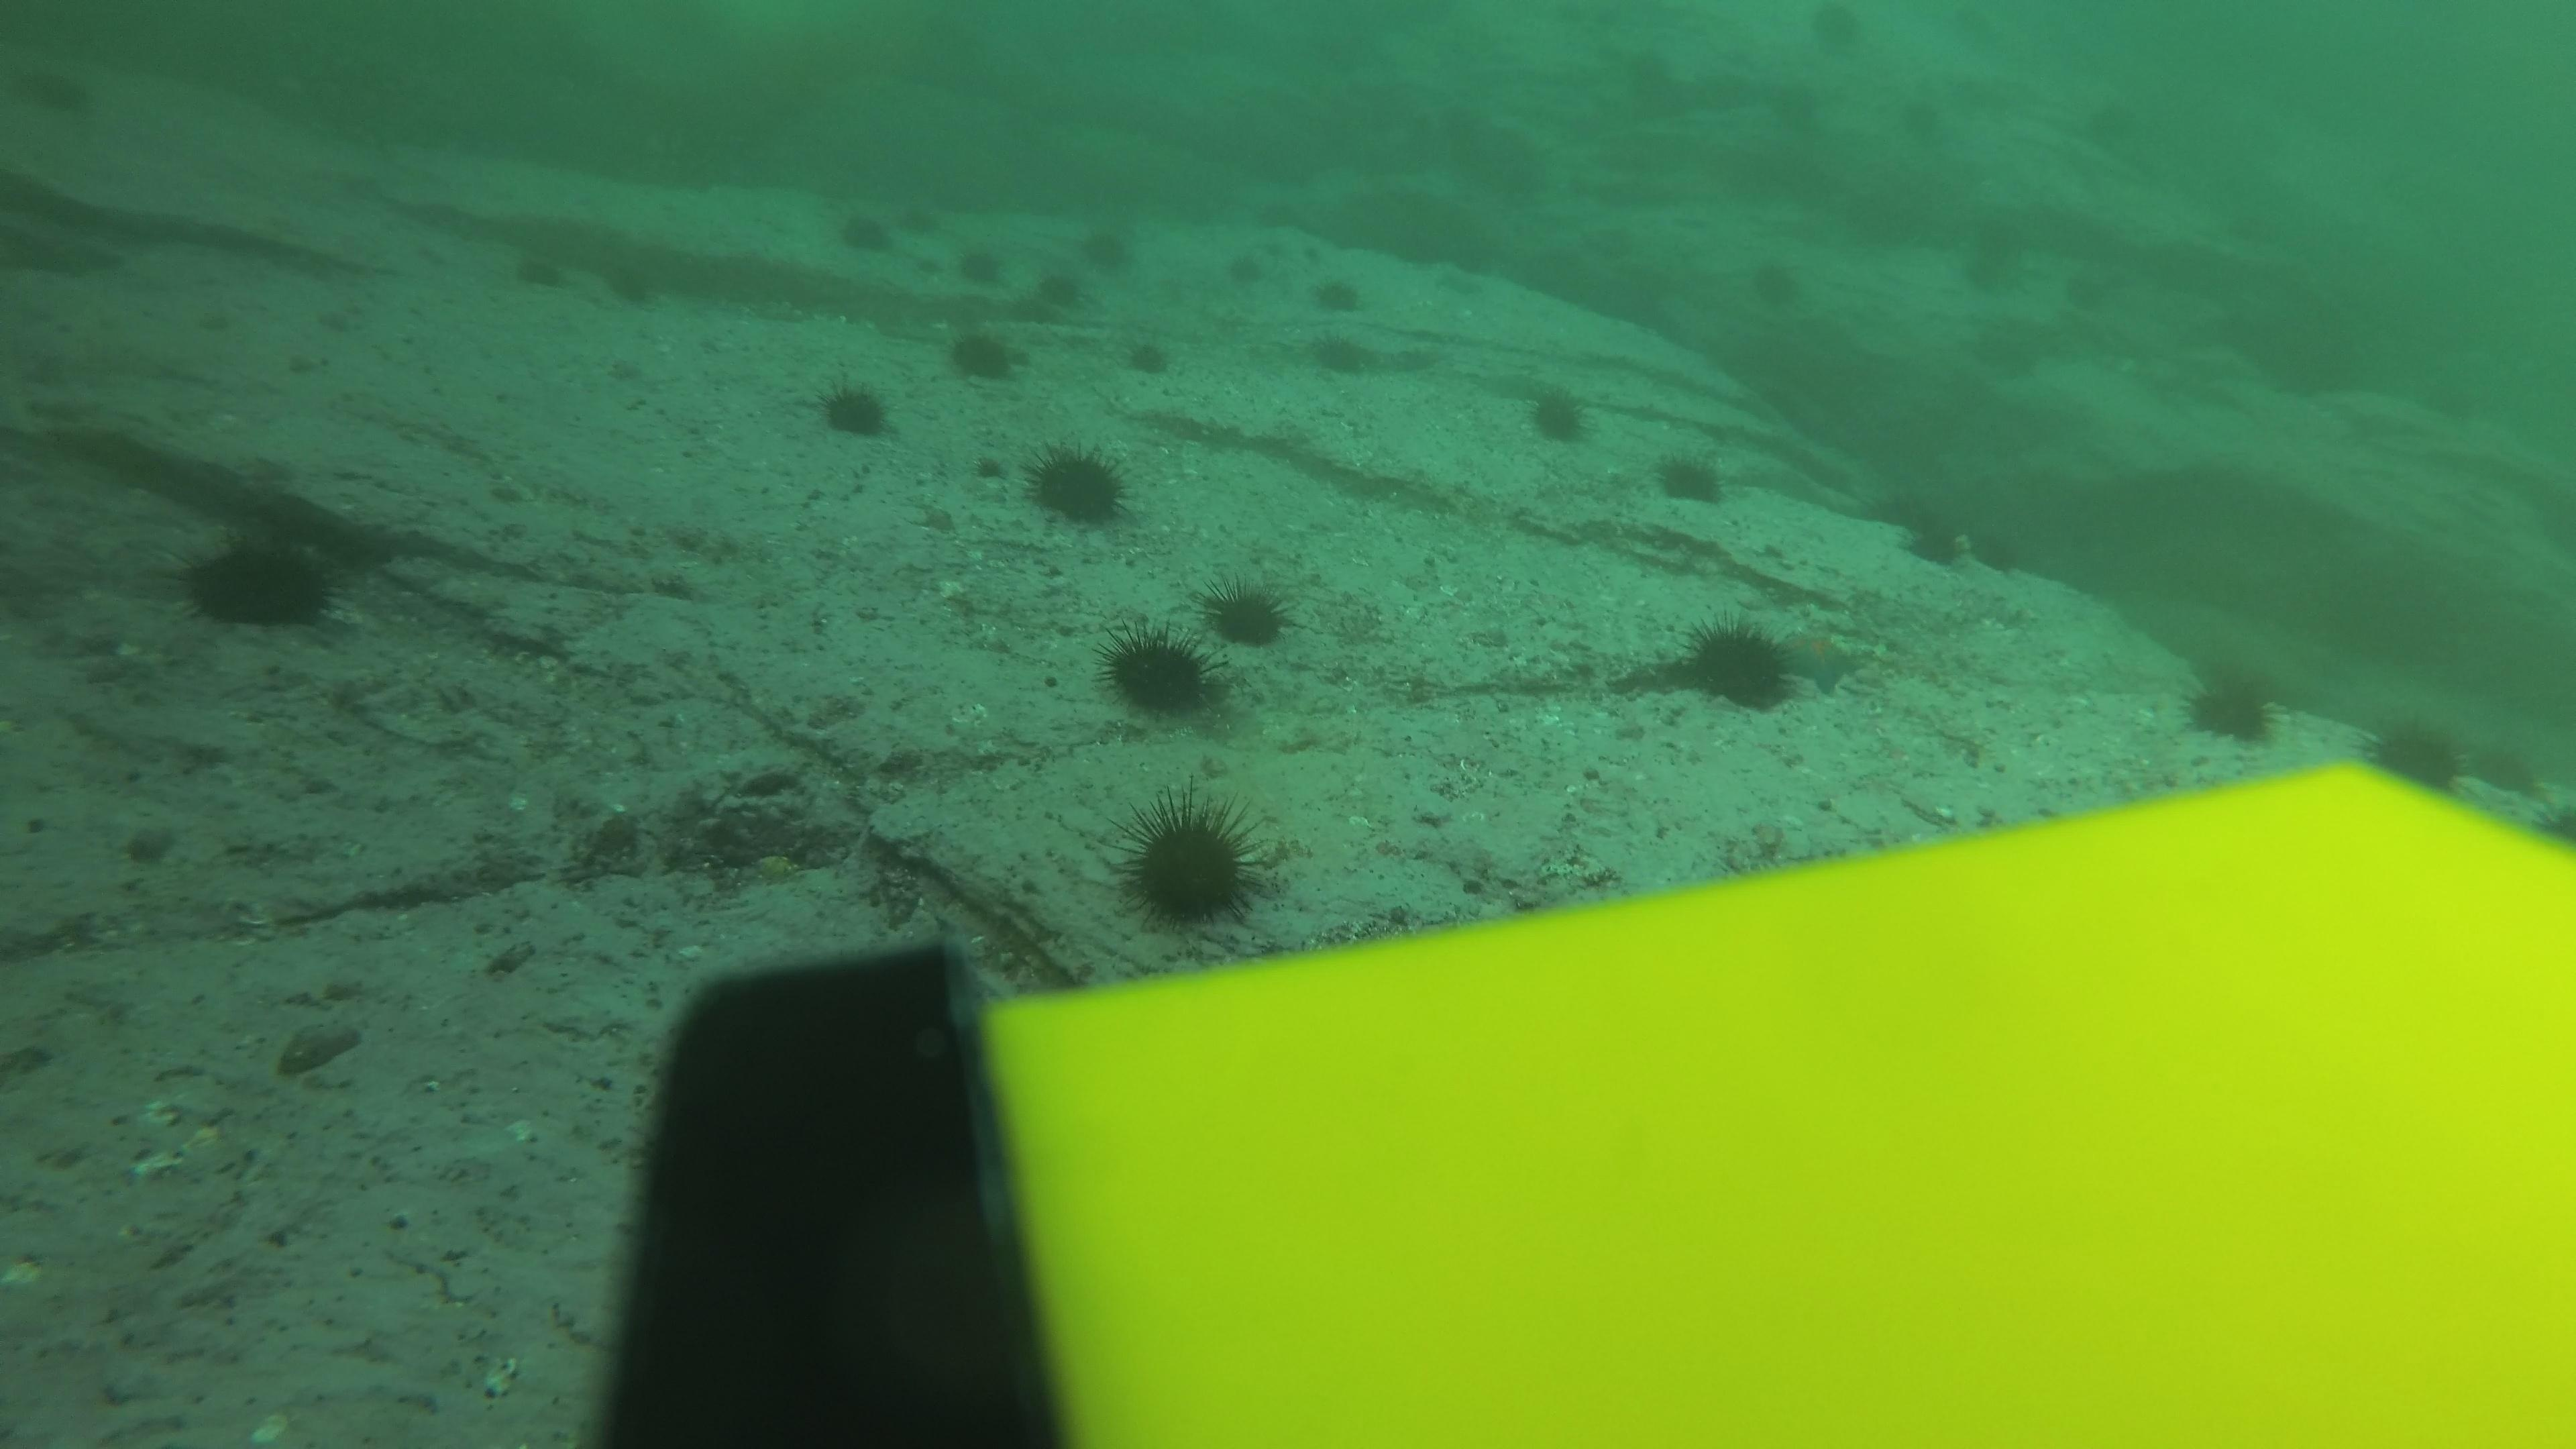echinus: (1113, 791, 1272, 934), (172, 525, 345, 640), (1667, 612, 1808, 718), (1097, 623, 1230, 727), (1021, 439, 1136, 536), (2357, 709, 2473, 801), (2176, 658, 2289, 752), (2459, 731, 2576, 821), (1198, 571, 1299, 655), (809, 372, 897, 448), (1516, 377, 1599, 451), (1649, 444, 1734, 513), (943, 322, 1028, 389), (1960, 527, 2033, 589), (2059, 265, 2132, 327), (1900, 83, 1974, 143), (1893, 515, 1966, 575), (2081, 92, 2153, 152), (1759, 80, 1824, 131), (1801, 0, 1865, 51), (1950, 239, 2005, 285), (1971, 211, 2026, 255), (1122, 334, 1173, 380), (1223, 249, 1272, 295), (899, 202, 948, 248), (513, 246, 563, 292), (1311, 338, 1361, 382), (1313, 269, 1362, 313), (1085, 228, 1134, 272), (1040, 262, 1090, 306), (959, 248, 1008, 292), (835, 214, 885, 258), (596, 264, 646, 308), (1752, 258, 1801, 303)
starfish: (1767, 625, 1872, 699)
